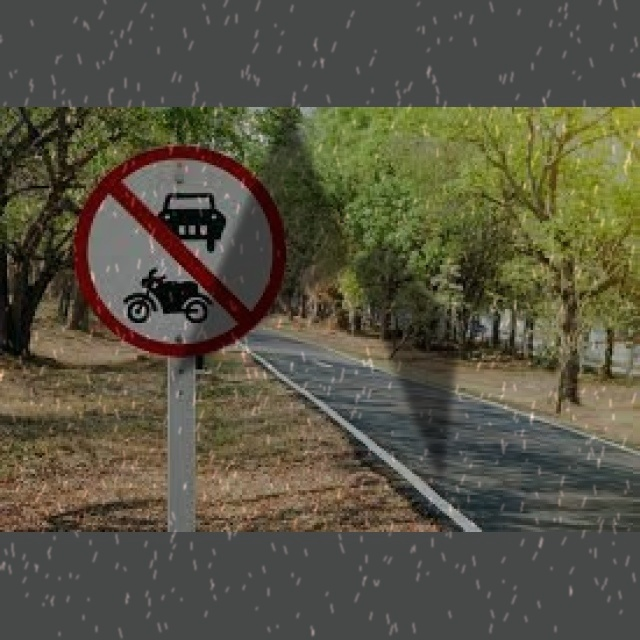All_Motor_Vehicles_Prohibited: (79, 147, 283, 351)
